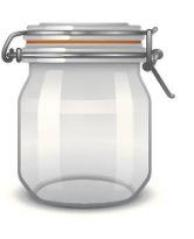glass: (18, 24, 152, 210)
